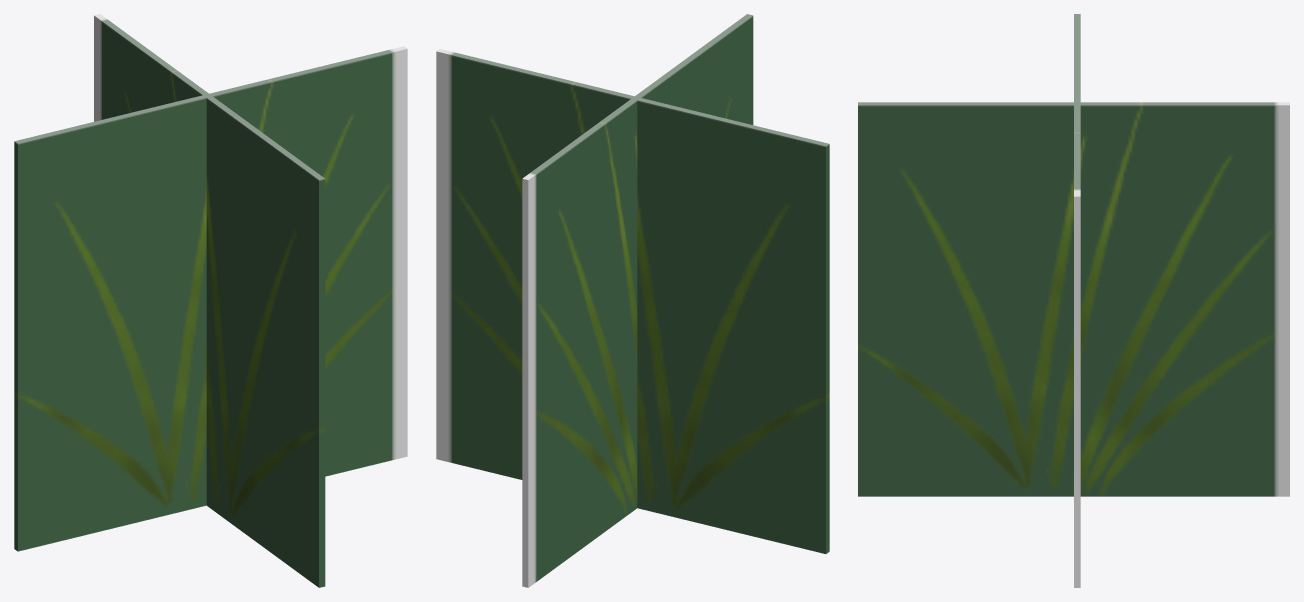
File: Grass1.fbx
3 renders of one model, left to right at view 1: azimuth 30°, elevation 25°; view 2: azimuth 150°, elevation 25°; view 3: azimuth 270°, elevation 25°, orthographic. The views are drawn at different scales.
Visible parts, largest first — view 1: n_grass_diff_0_60.001; view 2: n_grass_diff_0_60.001; view 3: n_grass_diff_0_60.001.
Boxes of the visible parts, bbox=[...] form: n_grass_diff_0_60.001: bbox=[14, 14, 407, 587]; n_grass_diff_0_60.001: bbox=[436, 14, 829, 587]; n_grass_diff_0_60.001: bbox=[858, 14, 1289, 587].
Bounding box in the file's own units: 63.23 × 63.23 × 63.23.
